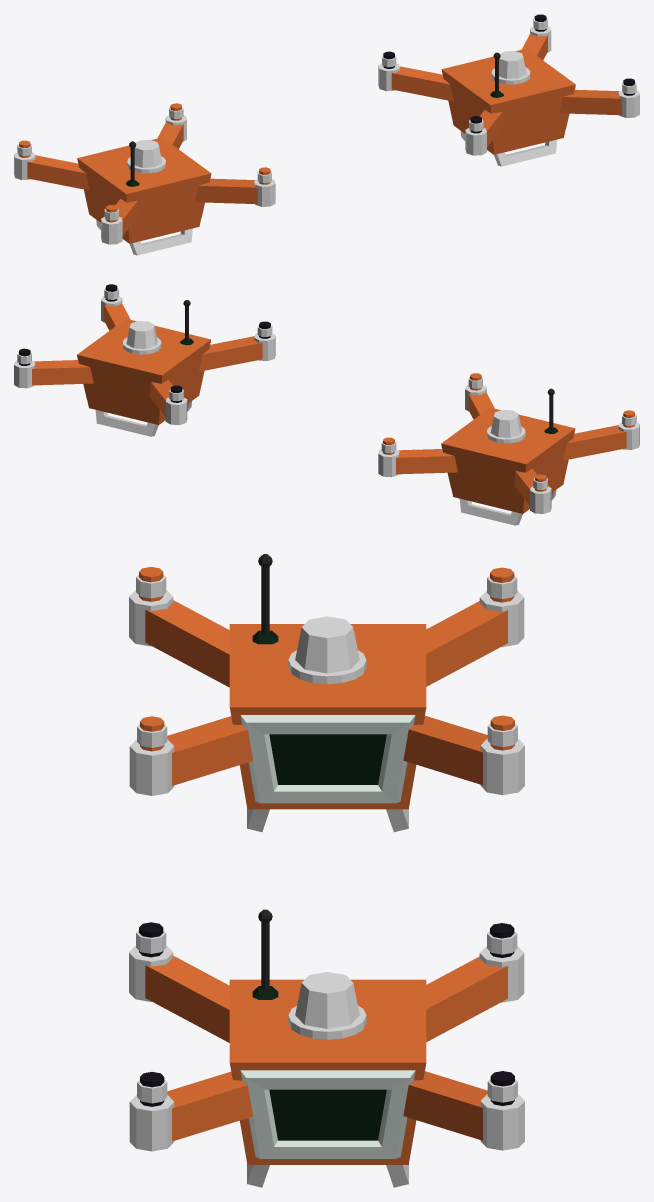
Rendered from dronefinal.fbx.
3 renders of one model, top to bottom at view 1: azimuth 30°, elevation 25°; view 2: azimuth 150°, elevation 25°; view 3: azimuth 270°, elevation 25°, orthographic. The views are drawn at different scales.
Parts seen in each view (by area): view 1: Cylinder.028, Cylinder.007, Cylinder.013; view 2: Cylinder.028, Cylinder.007, Cylinder.013; view 3: Cylinder.028, Cylinder.007, Cylinder.013, Cylinder.008.
Boxes of the visible parts, x1,y1,x2,y2 form: Cylinder.028: (378, 14, 639, 166); Cylinder.007: (14, 103, 275, 255); Cylinder.013: (134, 139, 162, 167); Cylinder.028: (14, 284, 275, 436); Cylinder.007: (378, 373, 639, 525); Cylinder.013: (490, 409, 521, 437); Cylinder.028: (129, 909, 524, 1187); Cylinder.007: (129, 567, 524, 832); Cylinder.013: (295, 616, 359, 673); Cylinder.008: (288, 650, 366, 684).
Size of the model in its own units: 1180 by 236 by 377.
